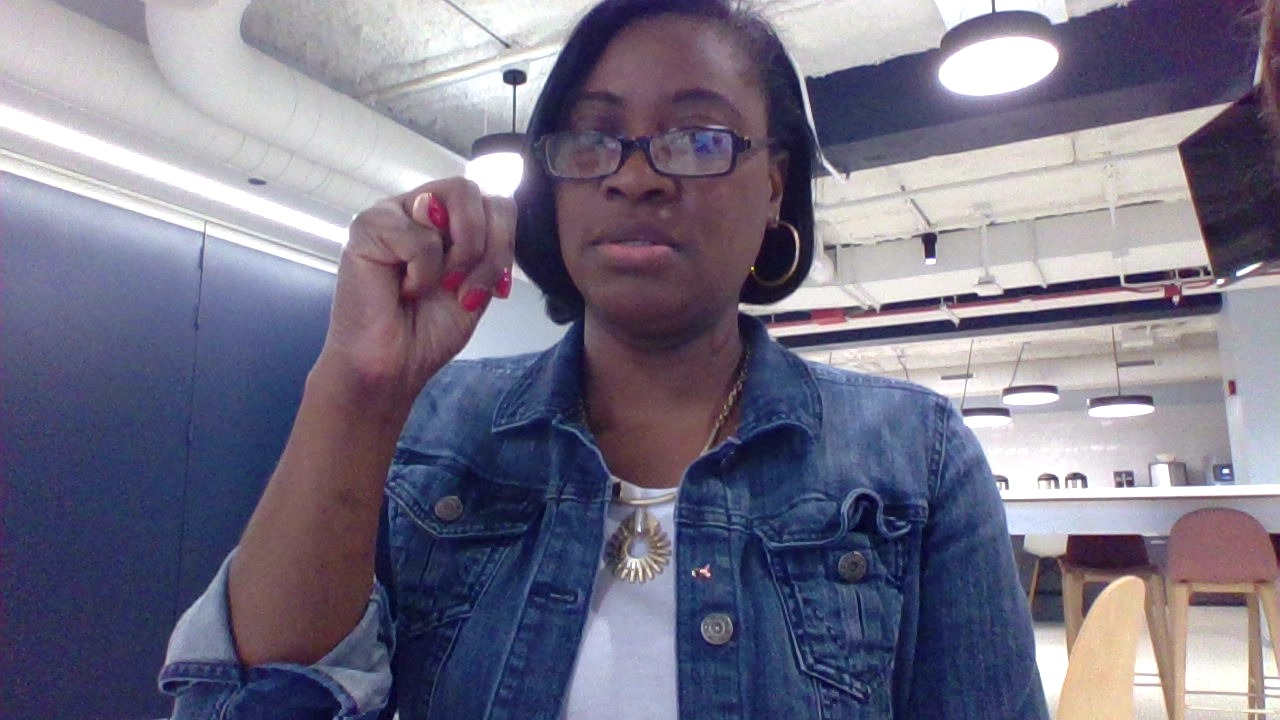m: (297, 165, 537, 421)
